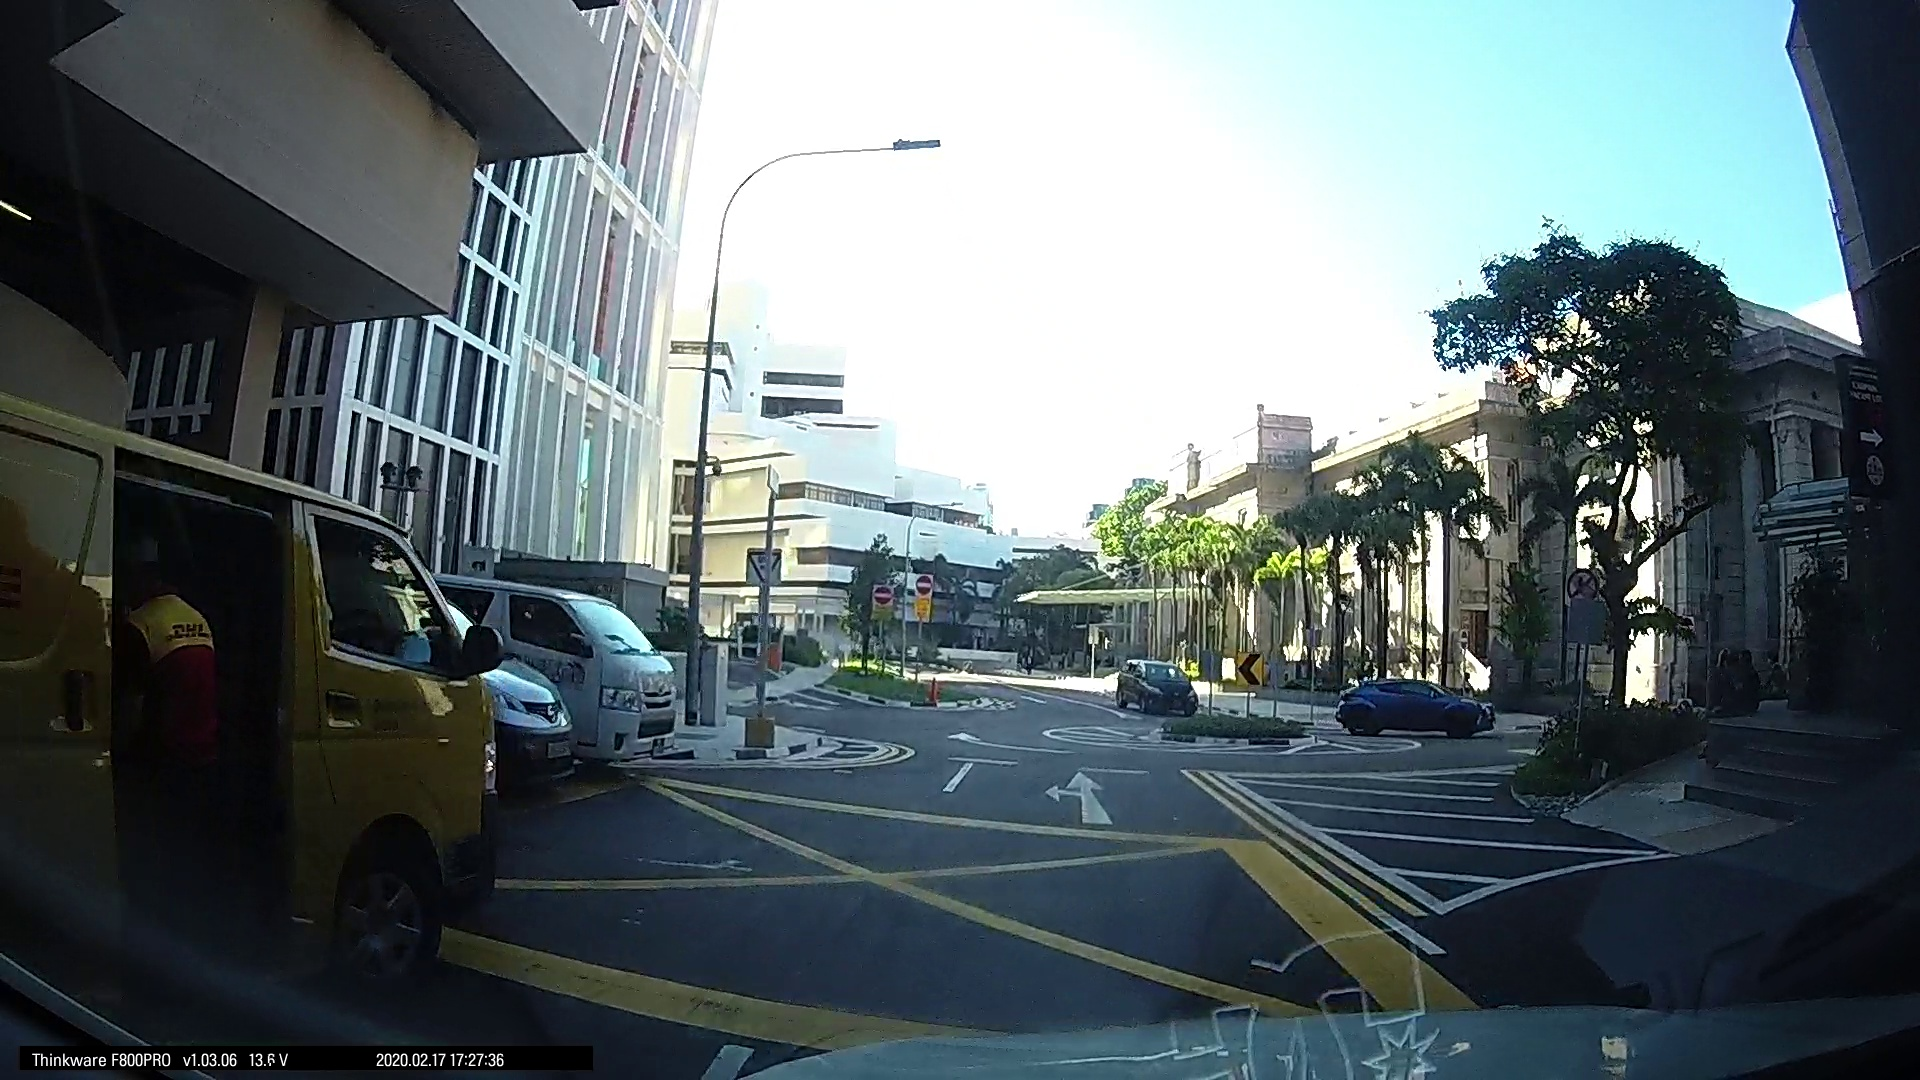Light Vehicle: (564, 649, 829, 824), (1600, 705, 1865, 851), (749, 644, 899, 771), (895, 651, 967, 721), (947, 636, 1011, 695), (1168, 663, 1220, 699)
Motorcycle: (55, 638, 394, 945), (320, 669, 583, 913)
